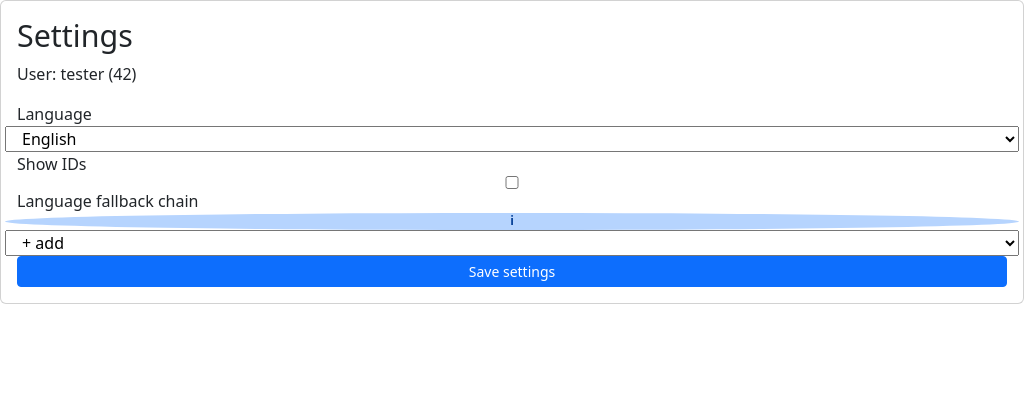
Test: SettingsView › shows an error when saving fails
The width and height of the screenshot is (1024, 395).
Step 1. Click the button with test id "settings-save" → [512, 272], box top-left (17, 256), bottom-right (1007, 287)
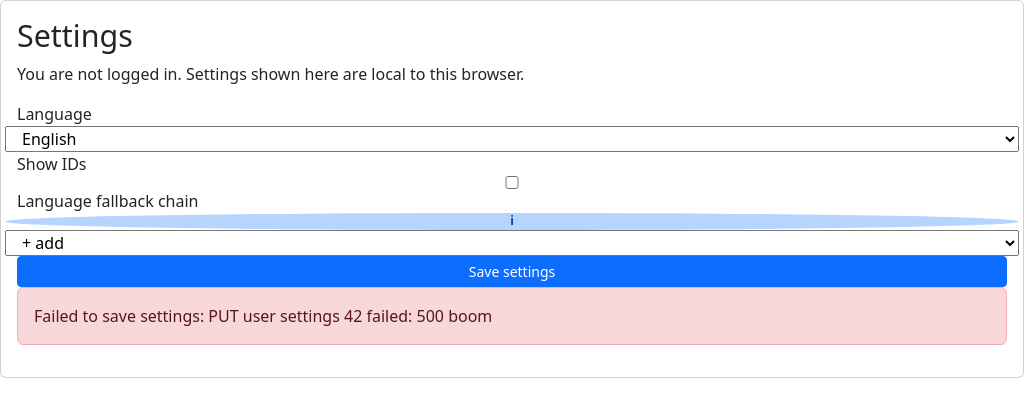
Expected: the text with test id "settings-error" is shown, top-left (17, 287), bottom-right (1007, 345)
Expected: the text with test id "settings-error" shows "500", top-left (34, 305), bottom-right (492, 327)
